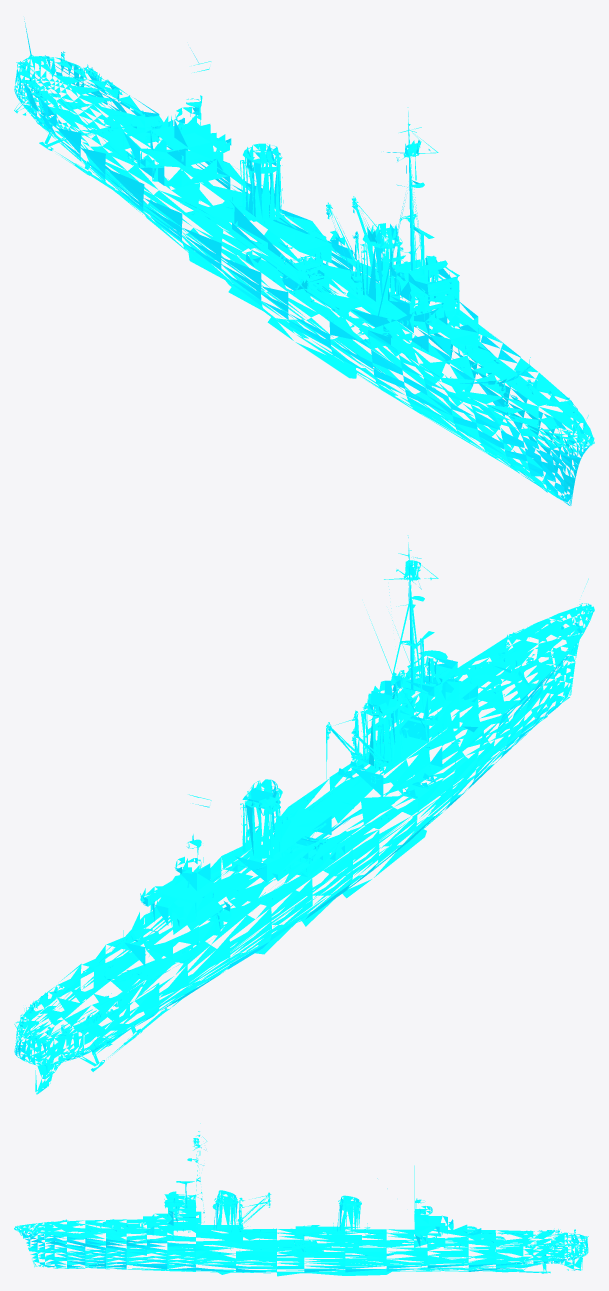
The picture shows the model from 3 angles, top to bottom: view 1: azimuth 30°, elevation 25°; view 2: azimuth 150°, elevation 25°; view 3: azimuth 270°, elevation 25°; orthographic projection. The views are drawn at different scales.
Bounding box in the file's own units: 0.8175 × 2.36 × 8.39.
